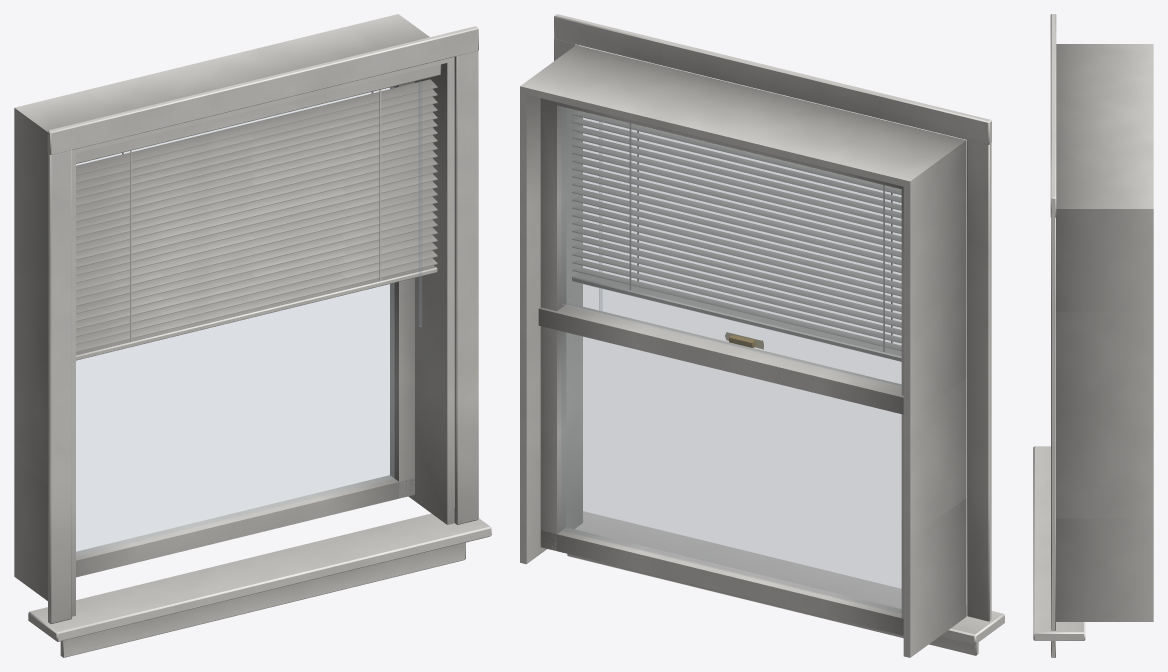
Rendered from window_blinds_raised.glb.
The picture shows the model from 3 angles, left to right: view 1: azimuth 30°, elevation 25°; view 2: azimuth 150°, elevation 25°; view 3: azimuth 270°, elevation 25°; orthographic projection. The views are drawn at different scales.
Parts seen in each view (by area): view 1: body, glass, opt_sill; view 2: body, glass, opt_sill; view 3: body, opt_sill.
Boxes of the visible parts, x1=… form: body: x1=14, y1=14, x2=478, y2=623; glass: x1=76, y1=86, x2=394, y2=555; opt_sill: x1=28, y1=508, x2=491, y2=657; body: x1=520, y1=14, x2=991, y2=657; glass: x1=561, y1=107, x2=901, y2=613; opt_sill: x1=567, y1=511, x2=1004, y2=655; body: x1=1050, y1=14, x2=1153, y2=630; opt_sill: x1=1033, y1=446, x2=1085, y2=657.
Size of what is drawn, in the model's own units: 1.36 by 1.58 by 0.37.
Materials: 5 (2 with a texture image).
